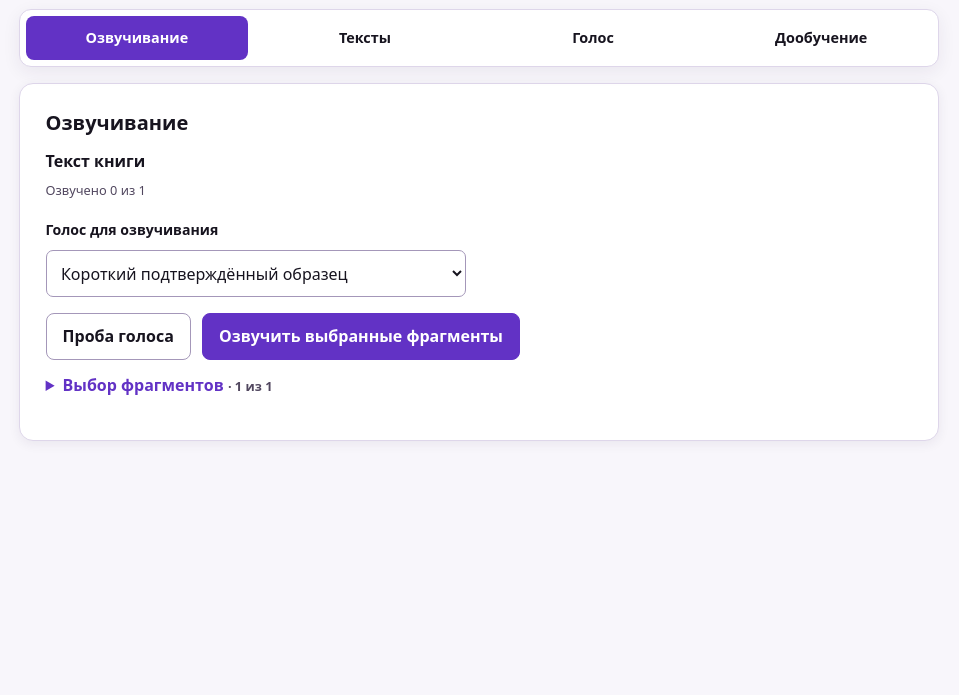
Test: Russian corpus review › keeps polling a completed recording without rechecking engine files
The image size is (959, 695).
Step 1. Click the button "Дообучение" → [821, 38], box [710,16,932,60]
(page scrolled)
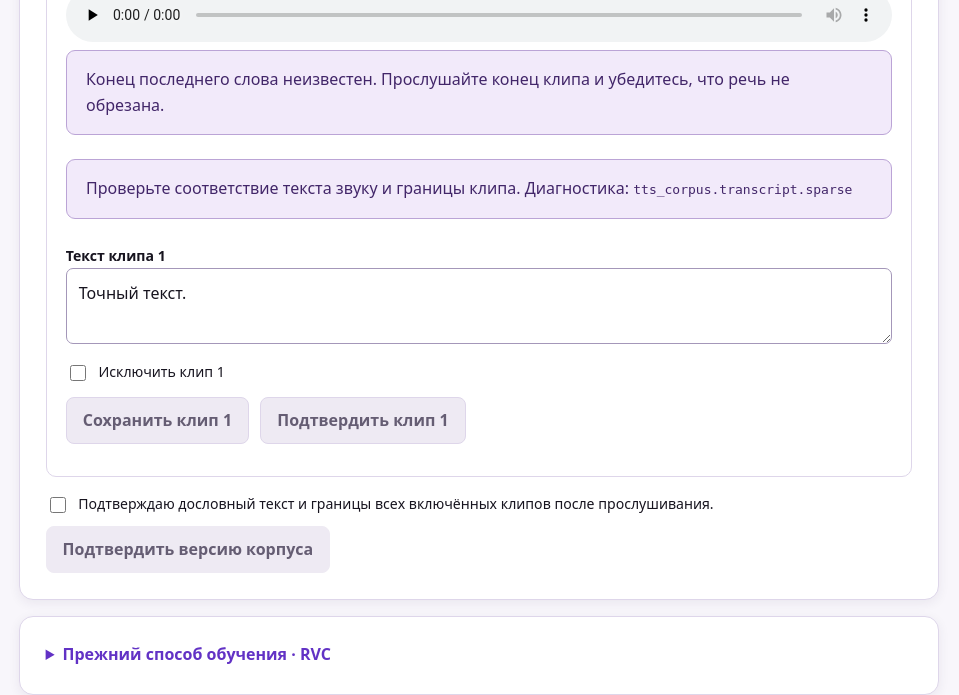
Check: the text box labelled "Текст клипа 1" is shown
Check: the text box labelled "Текст клипа 1" is enabled
Step 2. Replace the text in the text box labelled "Текст клипа 1" with "Правка." → [479, 306], box [66,268,892,344]
Wait 15000 ms
(page scrolled)
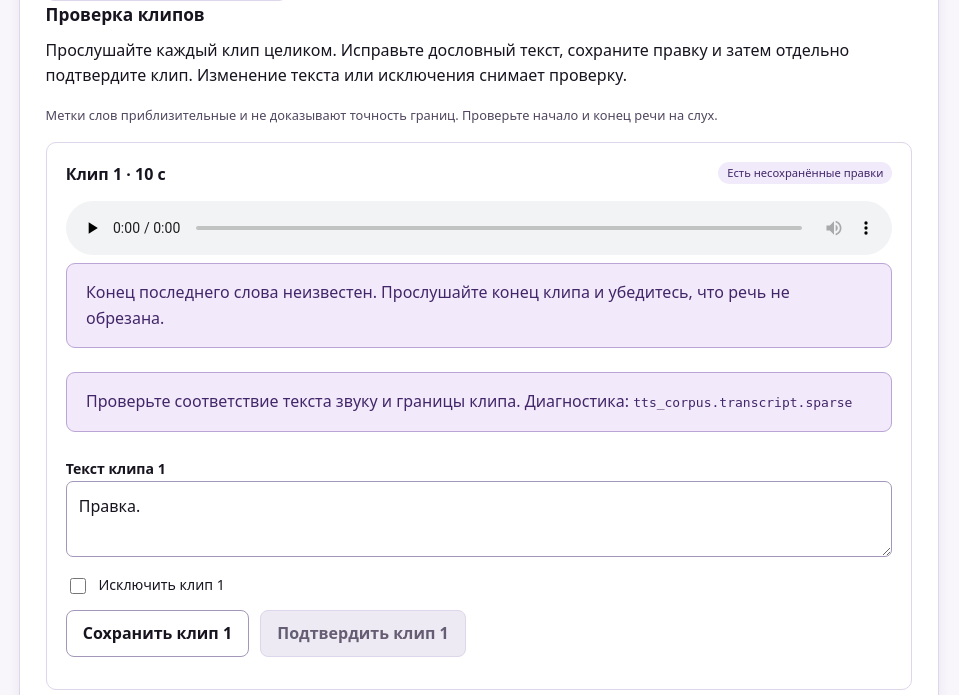
Check: the button "Сохранить клип 1" is enabled, box [66,610,249,657]
